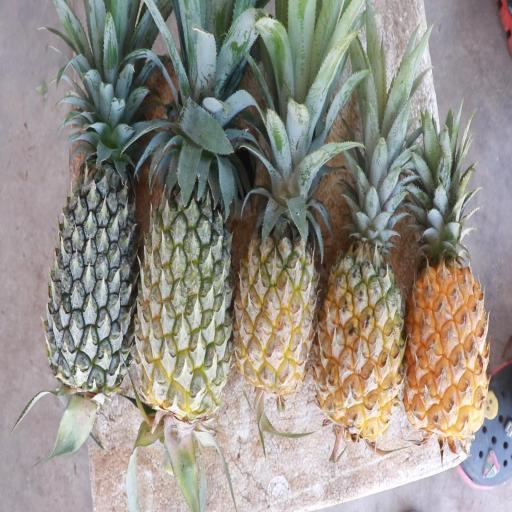------------------------------: (139, 140, 232, 418)
Pineapple - v8 v1: (320, 199, 410, 432), (408, 210, 490, 434), (241, 169, 318, 393)
